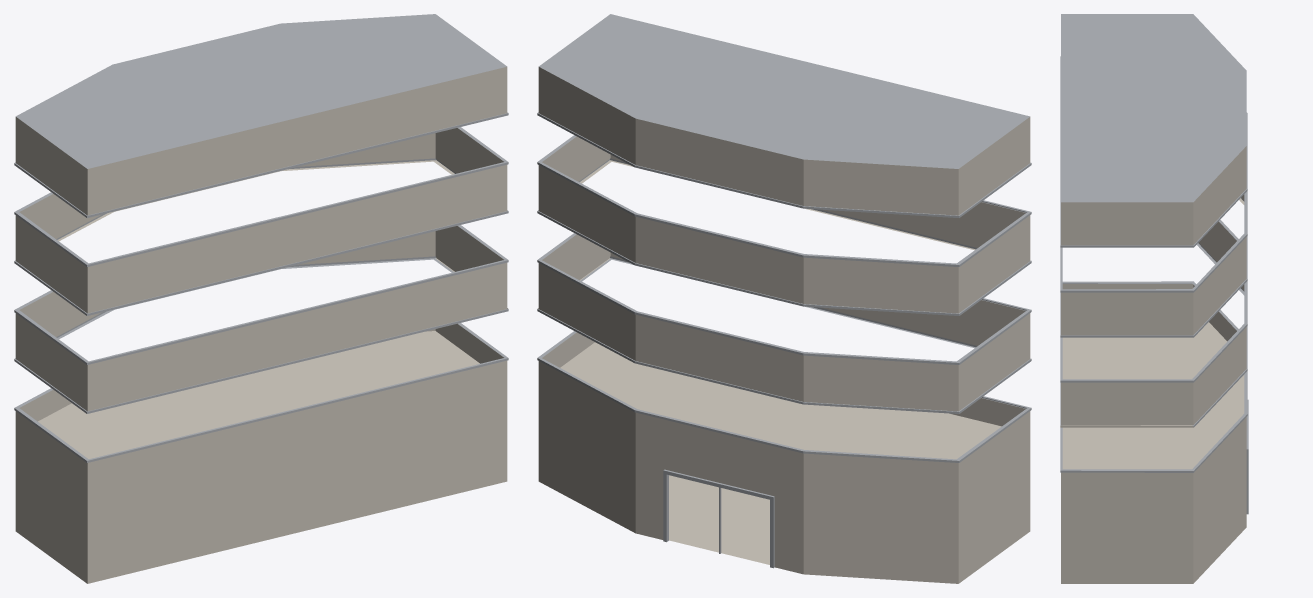
Rendered from Bld_O_high_L1_A.fbx.
3 views of the same model, side by side, from view 1: azimuth 30°, elevation 25°; view 2: azimuth 150°, elevation 25°; view 3: azimuth 270°, elevation 25° (orthographic). The views are drawn at different scales.
Visible parts, largest first — view 1: Bld_O_high_L1_A_LOD0; view 2: Bld_O_high_L1_A_LOD0; view 3: Bld_O_high_L1_A_LOD0.
Boxes of the visible parts, x1,y1,x2,y2 form: Bld_O_high_L1_A_LOD0: (14, 14, 508, 583); Bld_O_high_L1_A_LOD0: (537, 14, 1031, 583); Bld_O_high_L1_A_LOD0: (1060, 14, 1248, 583).
Size of what is drawn, in the model's own units: 1380 by 1431 by 733.
1 material, 1 textured.
